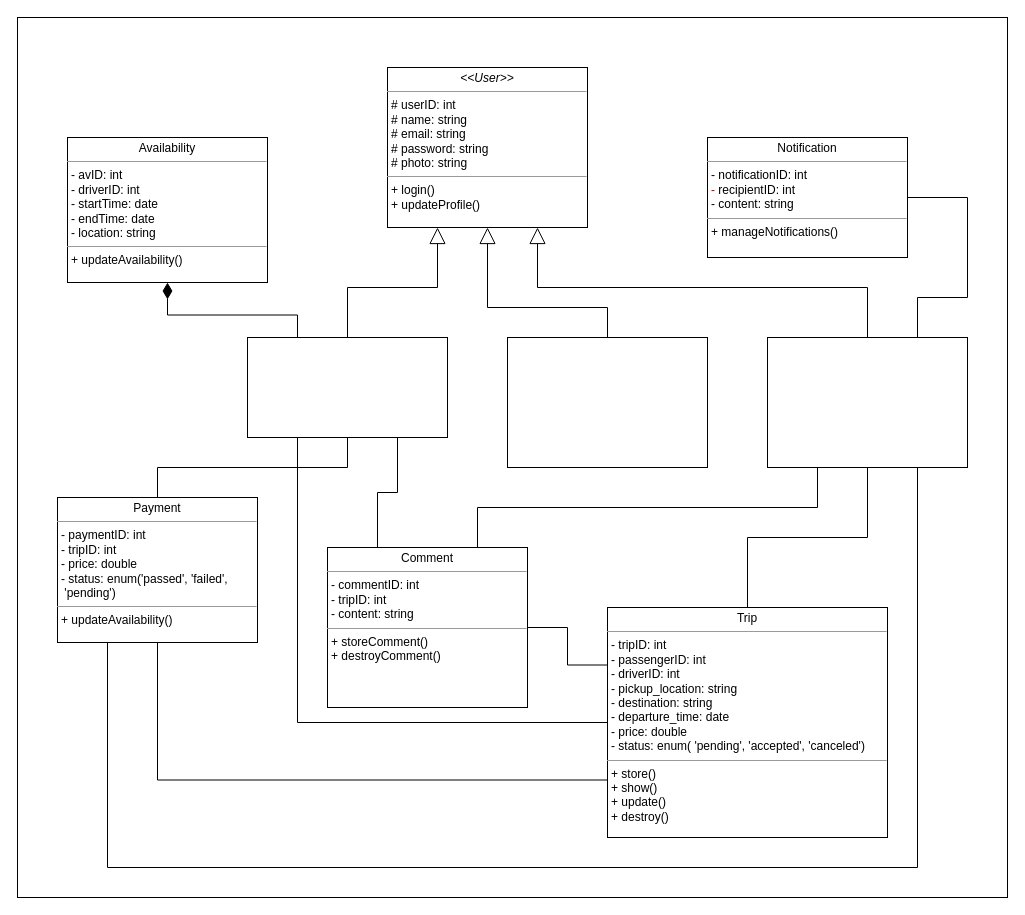
Image size: 1025x915. Some labels were removed from this diagram. The centre of each missing label's shape, as x and y in pixels:
"Admin + manageUsers() + getStats()" belongs at [607,402].
"Driver + manageReservations() + viewHistory()" belongs at [347,387].
"Passenger + bookTrip() + viewHistory() + cancelReservation() + filterDrivers()" belongs at [867,402].
